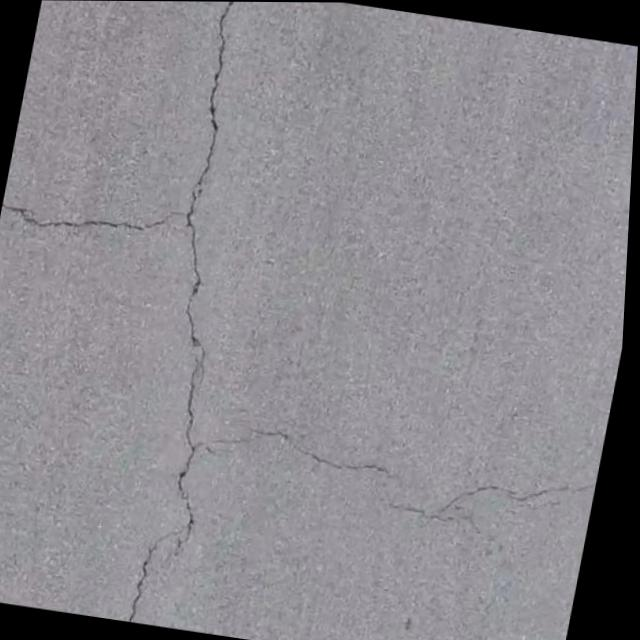Crack: (172, 406, 606, 546), (111, 225, 256, 629), (170, 1, 258, 233), (0, 163, 183, 262)
